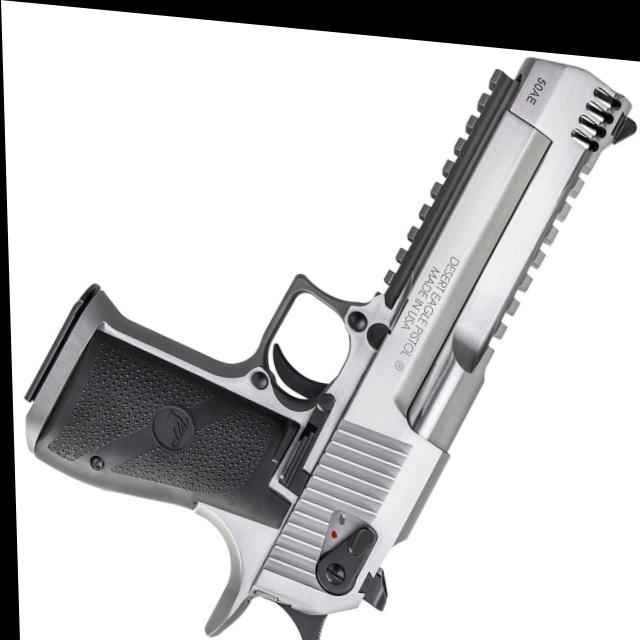handgun: (0, 2, 640, 640)
